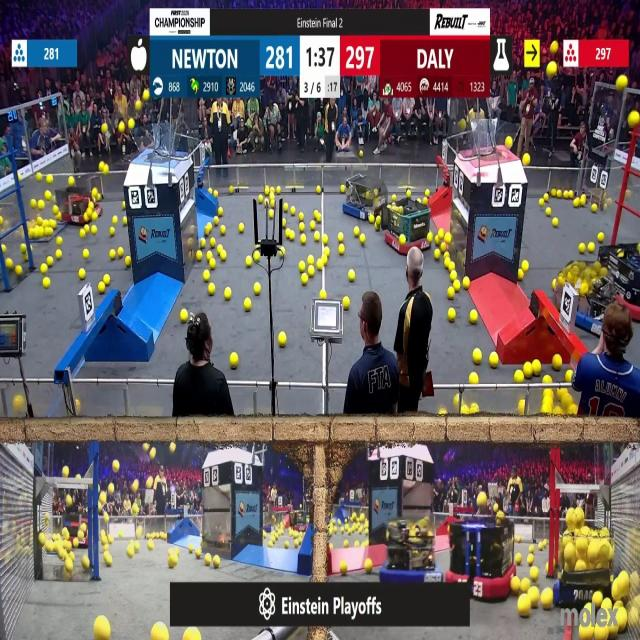ball_airborne: (629, 111, 639, 127), (618, 75, 628, 89), (546, 63, 555, 77), (504, 136, 512, 150), (479, 492, 487, 505), (523, 155, 531, 167), (98, 161, 106, 172), (68, 176, 75, 187), (150, 446, 156, 458), (133, 482, 139, 494), (100, 492, 107, 502), (170, 444, 177, 454), (492, 502, 499, 512), (136, 100, 142, 111), (118, 121, 124, 132), (143, 91, 149, 102), (147, 478, 153, 489), (63, 466, 69, 477), (133, 502, 139, 513), (113, 460, 119, 471), (130, 118, 136, 128), (67, 496, 73, 506), (102, 124, 108, 134), (460, 118, 466, 128), (108, 484, 114, 494), (98, 502, 104, 512), (36, 174, 42, 182), (104, 514, 109, 523), (143, 444, 148, 452), (76, 473, 81, 479)
ball_ground: (96, 618, 110, 640), (519, 596, 531, 617), (540, 590, 552, 610), (152, 624, 167, 640), (13, 396, 24, 411), (553, 354, 563, 370), (512, 579, 522, 595), (593, 592, 603, 608), (529, 588, 539, 604), (490, 352, 499, 368), (183, 630, 196, 640), (231, 352, 239, 368), (472, 349, 480, 364), (278, 334, 286, 348), (532, 360, 540, 374), (170, 554, 178, 568), (524, 362, 532, 376), (522, 580, 530, 594), (530, 567, 538, 580), (565, 368, 573, 381), (341, 560, 348, 574), (518, 403, 525, 417), (212, 556, 220, 568), (516, 371, 524, 383), (82, 557, 90, 569), (244, 300, 252, 312), (363, 560, 371, 572), (449, 309, 456, 322), (343, 296, 350, 309), (183, 308, 190, 321), (468, 373, 476, 384), (348, 271, 356, 282), (308, 266, 316, 277), (223, 288, 230, 300), (469, 312, 476, 324), (578, 242, 585, 254), (302, 274, 309, 286), (66, 560, 73, 572), (522, 263, 530, 273), (460, 407, 468, 417), (469, 405, 477, 415), (42, 278, 49, 289), (462, 278, 469, 289), (298, 263, 305, 274), (253, 283, 260, 294), (123, 255, 130, 266), (205, 555, 212, 566), (438, 229, 445, 240), (542, 375, 550, 384), (244, 258, 250, 270), (106, 555, 112, 567), (454, 280, 460, 292), (82, 249, 89, 259), (204, 272, 211, 282), (40, 265, 47, 275), (99, 283, 106, 293), (14, 268, 21, 278), (308, 254, 315, 264), (453, 395, 460, 405), (449, 287, 455, 298), (434, 249, 440, 260), (210, 260, 216, 271), (195, 250, 201, 261), (220, 250, 226, 261), (104, 275, 110, 286), (589, 242, 595, 253), (359, 235, 365, 246), (206, 223, 212, 234), (6, 258, 12, 269), (84, 213, 90, 224), (136, 527, 142, 538), (579, 197, 585, 208), (450, 272, 457, 281), (317, 263, 324, 272), (78, 270, 84, 280), (209, 284, 215, 294), (340, 245, 346, 255), (598, 234, 604, 244), (339, 234, 345, 244), (320, 290, 326, 300), (314, 233, 320, 243), (220, 224, 226, 234), (239, 222, 245, 232), (553, 217, 559, 227), (57, 250, 63, 260), (46, 256, 52, 266), (299, 235, 305, 245), (518, 271, 524, 281), (117, 247, 123, 257), (253, 251, 259, 261), (322, 235, 328, 245), (110, 250, 116, 260), (528, 555, 534, 565), (446, 234, 452, 244), (129, 548, 135, 558), (445, 256, 451, 266), (213, 216, 220, 224), (517, 554, 522, 565), (428, 233, 433, 244), (92, 224, 98, 233), (148, 540, 154, 549), (194, 550, 200, 559), (289, 232, 295, 241), (92, 212, 98, 221), (279, 248, 285, 257), (314, 211, 320, 220), (110, 226, 116, 235), (442, 243, 448, 252), (450, 263, 456, 272), (19, 242, 25, 251), (83, 224, 89, 233), (434, 236, 440, 245), (354, 226, 359, 236), (298, 222, 304, 230), (269, 210, 275, 218), (592, 205, 598, 213), (323, 247, 329, 255), (538, 200, 544, 208), (321, 256, 327, 264), (210, 239, 216, 247), (283, 204, 289, 212), (316, 185, 322, 193), (257, 194, 263, 202), (376, 216, 382, 224), (573, 200, 579, 208), (441, 410, 447, 418), (96, 192, 102, 200), (270, 201, 276, 209), (270, 192, 276, 200), (58, 238, 63, 247), (311, 221, 316, 230), (564, 189, 569, 198), (187, 544, 193, 551), (162, 533, 168, 540), (227, 186, 233, 193), (407, 190, 413, 197), (362, 540, 368, 547), (213, 190, 220, 196), (545, 208, 550, 216), (112, 216, 117, 224), (290, 207, 295, 215), (298, 213, 303, 221), (368, 215, 373, 223), (108, 535, 113, 543), (122, 216, 126, 225), (80, 230, 84, 239), (202, 239, 206, 248), (208, 251, 212, 260), (424, 189, 430, 195), (553, 280, 557, 289), (355, 540, 360, 547), (277, 186, 282, 193), (341, 185, 346, 192), (284, 541, 289, 548), (529, 544, 534, 551), (374, 224, 379, 231), (218, 208, 222, 216), (121, 202, 125, 210), (282, 219, 286, 227), (344, 539, 348, 547), (136, 542, 140, 550), (266, 186, 270, 194), (269, 541, 274, 547), (358, 151, 363, 157), (517, 535, 522, 541), (553, 189, 557, 196), (543, 193, 547, 200), (2, 245, 6, 252), (538, 542, 542, 549), (392, 193, 396, 200), (25, 254, 29, 260), (208, 187, 212, 193)
goal: (465, 120, 523, 160), (128, 130, 186, 160)
robot_blue: (550, 261, 614, 337), (384, 519, 440, 590), (343, 172, 387, 221)
robot_red: (448, 516, 516, 602), (382, 196, 430, 254), (607, 243, 640, 322), (56, 171, 104, 225), (289, 512, 307, 532)
